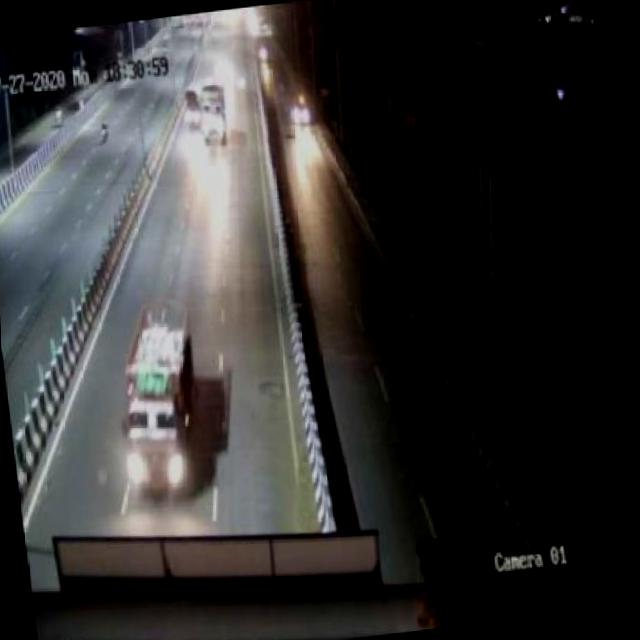car: (289, 91, 318, 130)
